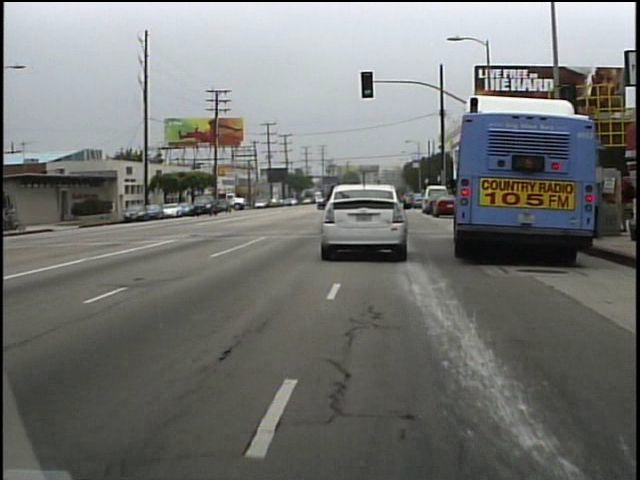person: (106, 195, 120, 221)
